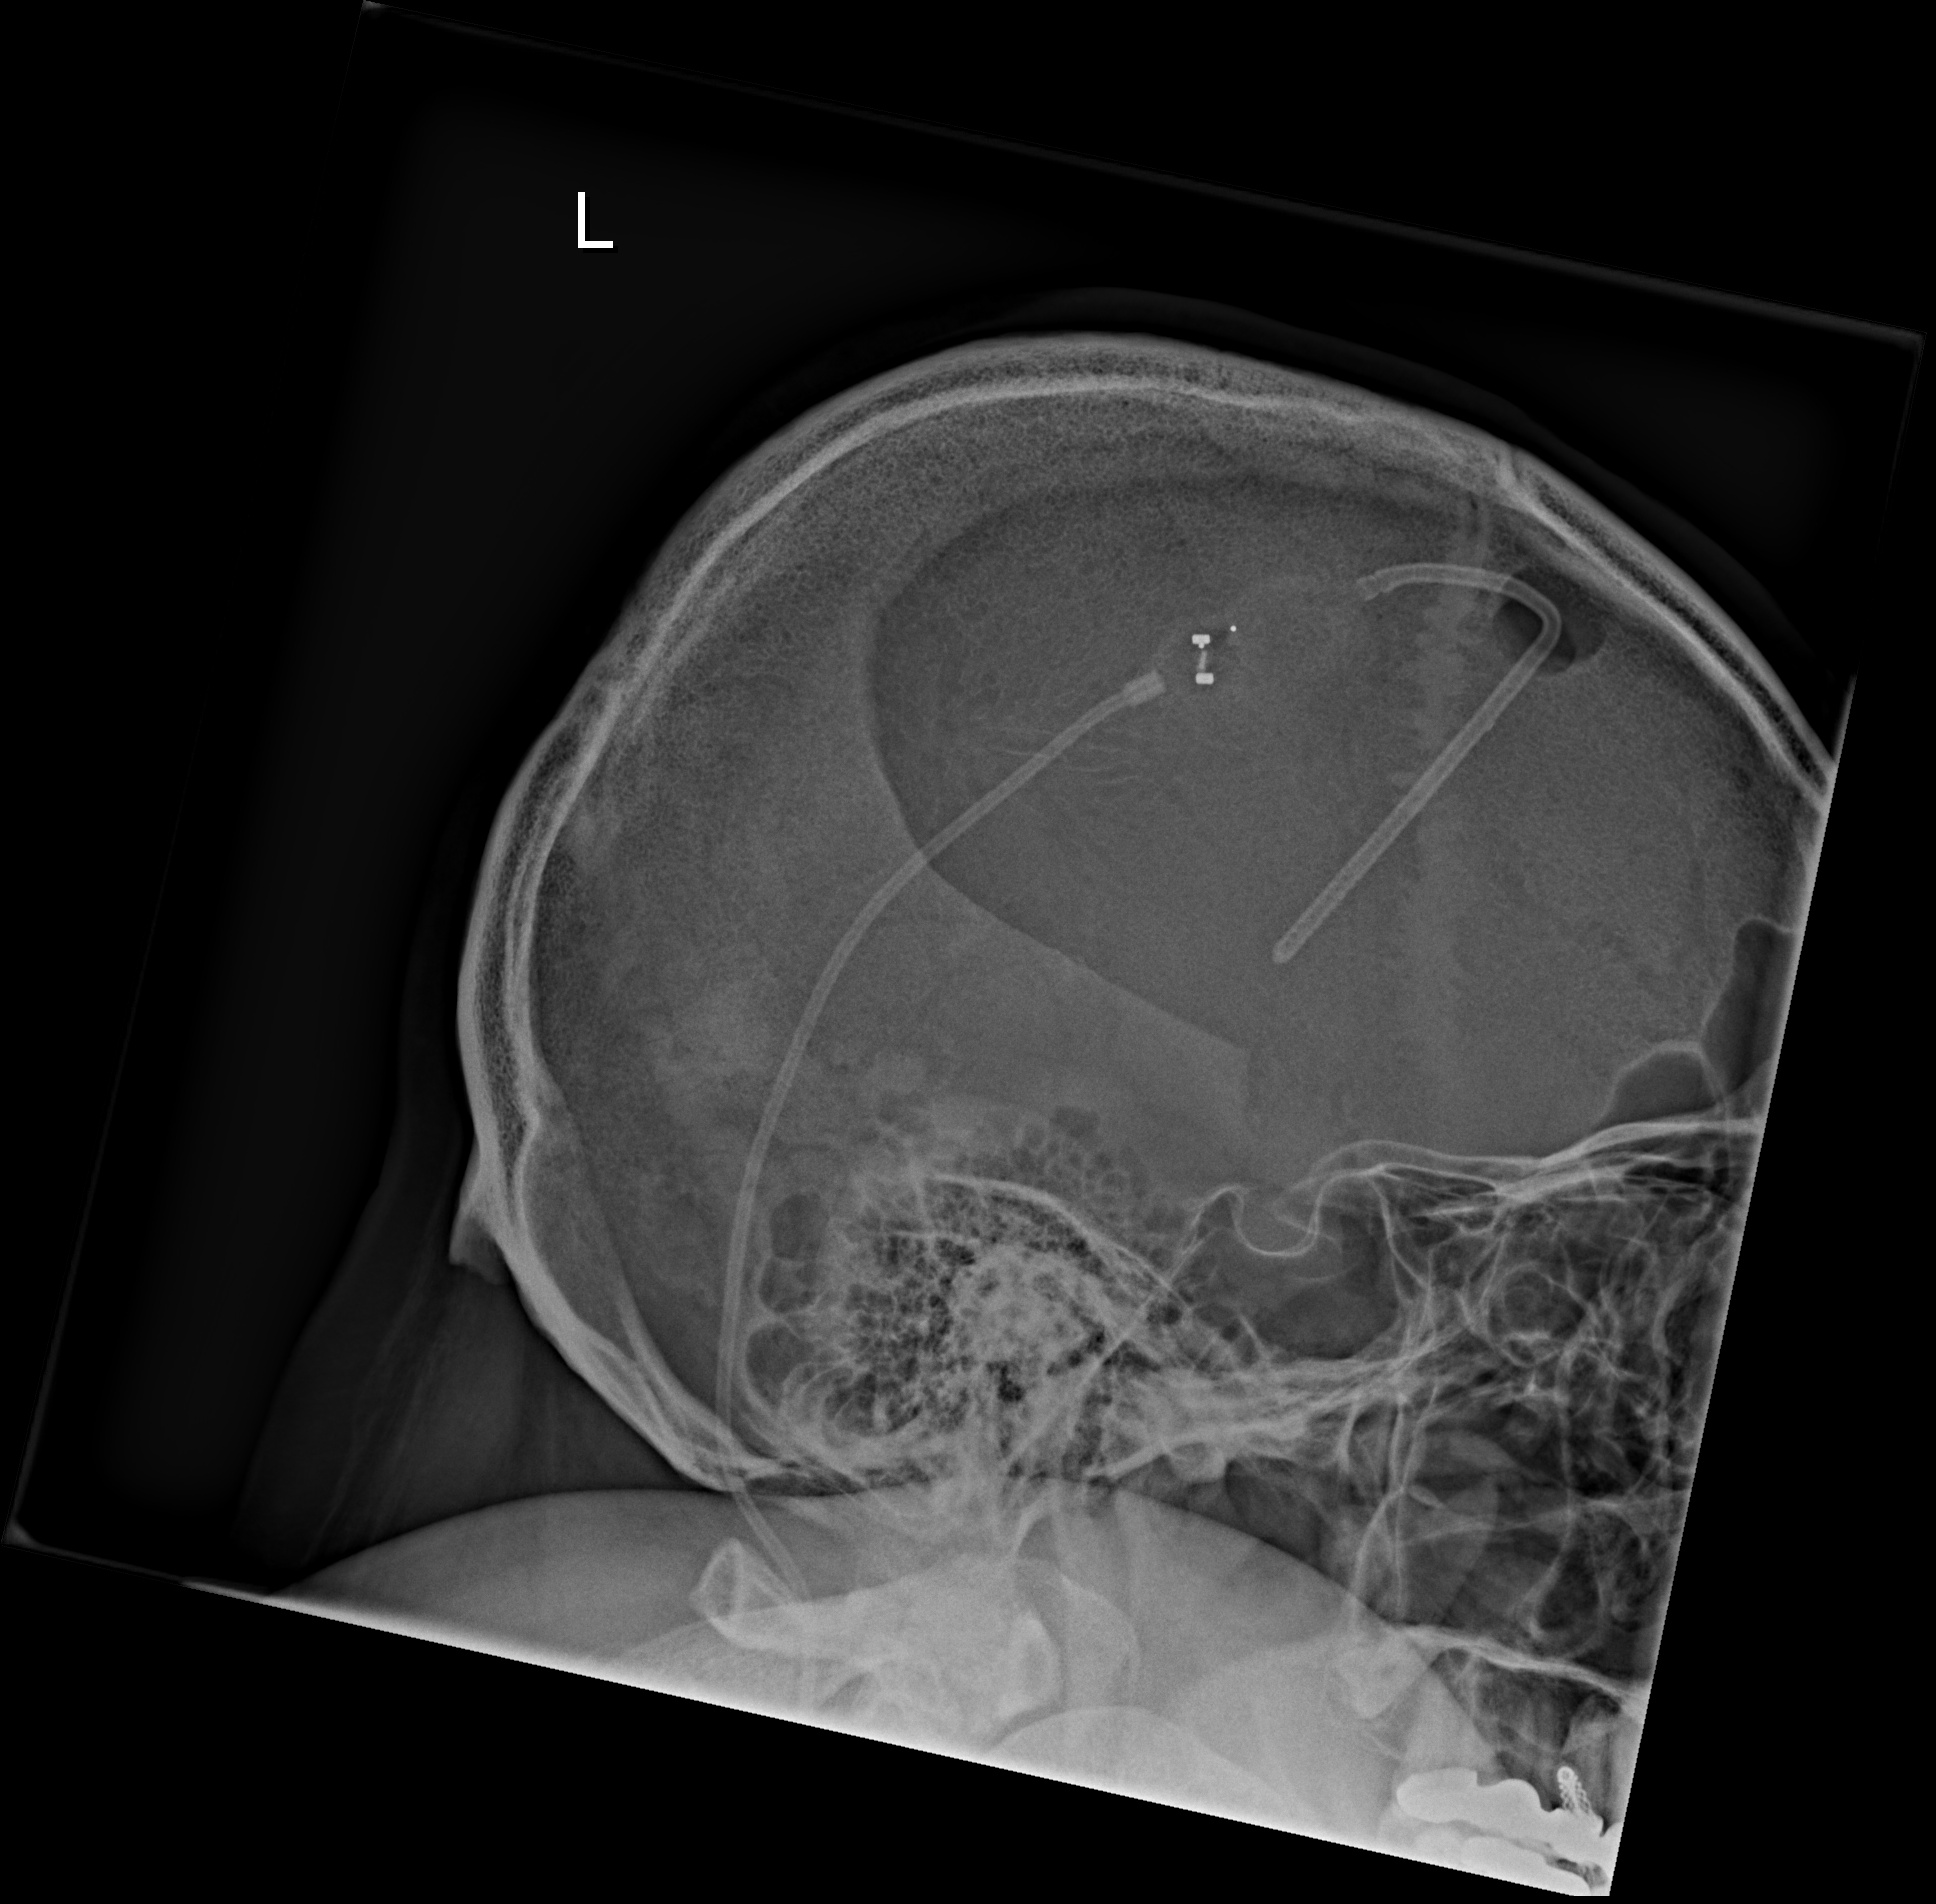Codman Certas: (1160, 602, 1263, 718)
